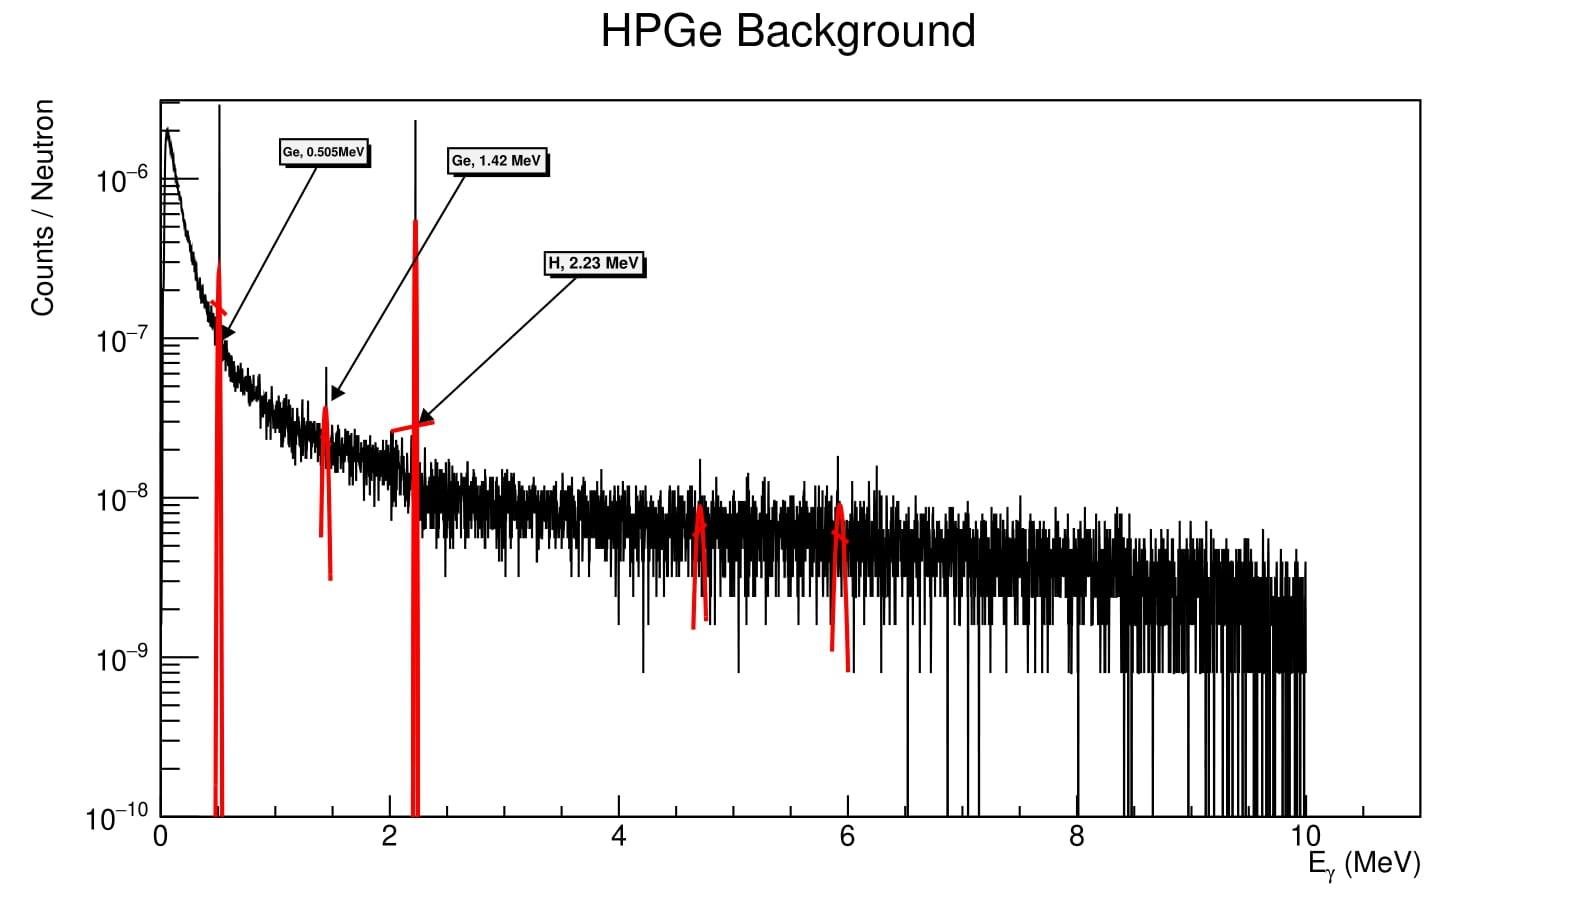gauss: (399, 121, 447, 813), (191, 226, 236, 826), (825, 454, 866, 706), (307, 367, 350, 570), (689, 451, 718, 665)
other: (904, 486, 1363, 844), (451, 449, 684, 621)
